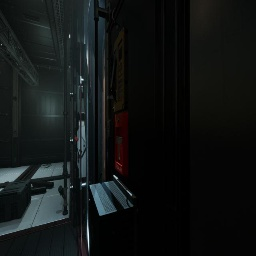EmergencyPhone ,: (110, 21, 128, 112)
FireAlarm ,: (115, 111, 128, 177)
SafetySwitchPanel ,: (75, 120, 86, 179)
